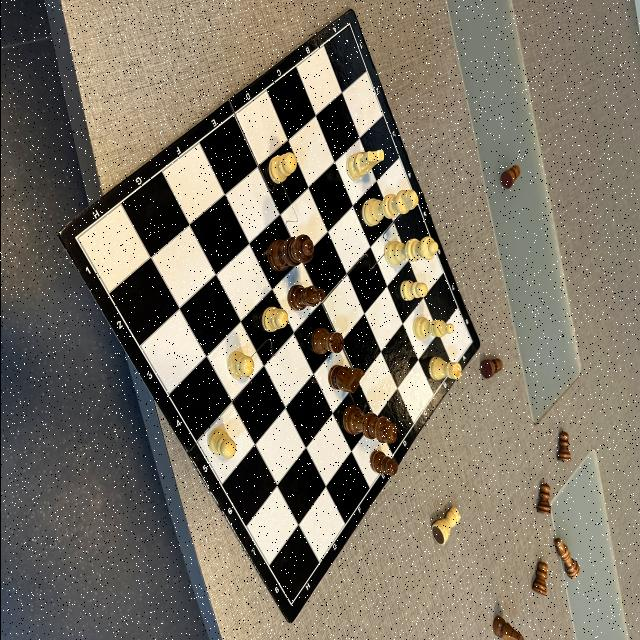Black-Bishop: (552, 538, 580, 580), (287, 284, 325, 310)
Black-King: (342, 406, 396, 444)
Black-Knight: (327, 364, 363, 394), (492, 614, 524, 640)
Black-Pawn: (369, 451, 397, 476), (532, 562, 548, 596), (536, 484, 552, 516), (500, 166, 521, 190), (480, 358, 502, 379), (556, 430, 570, 462)
Black-Queen: (267, 235, 315, 272)
Black-Rook: (310, 328, 343, 354)
White-Bishop: (412, 316, 452, 339)
White-King: (360, 190, 418, 226)
White-Knight: (346, 150, 384, 179)
White-Pawn: (268, 152, 296, 184), (207, 429, 235, 459), (226, 351, 254, 377), (262, 308, 288, 332), (399, 280, 426, 302)
White-Queen: (384, 237, 436, 267)
White-Rook: (429, 508, 461, 545), (428, 358, 461, 380)
